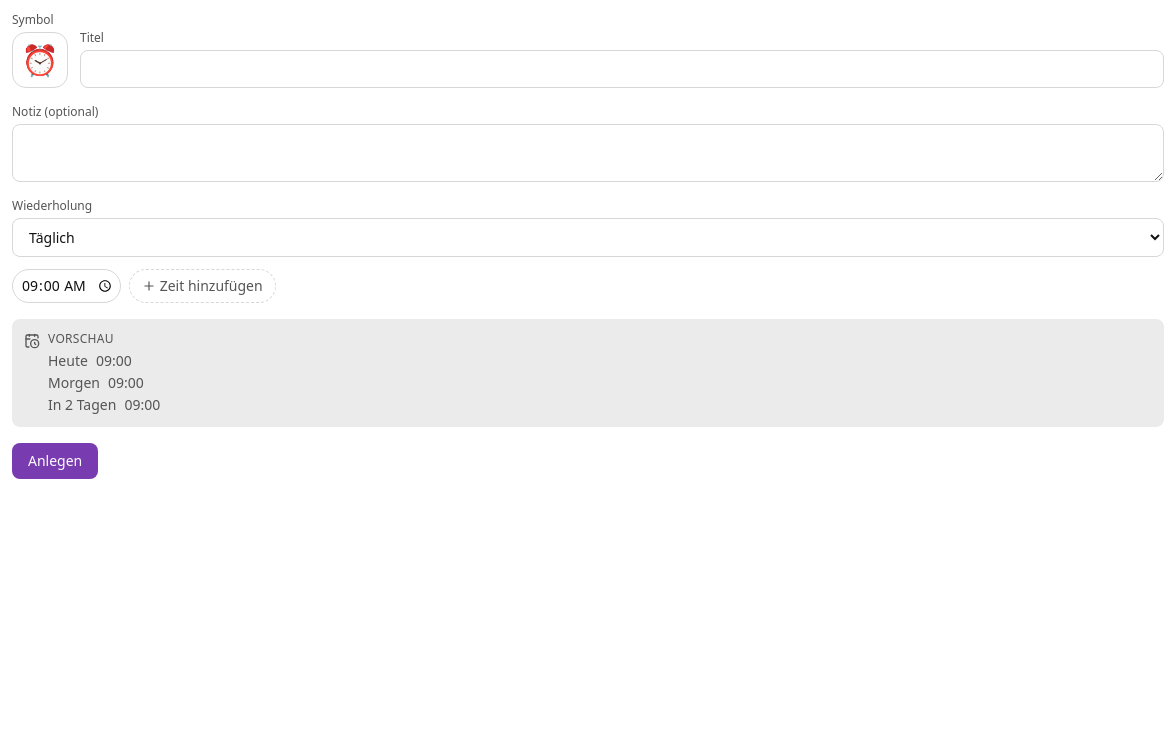
ReminderForm › survives deselecting every weekday and refuses to save it
Type "Müll" into the field labelled "Titel".
click(622, 69); type("Müll")  # box [80, 50, 1164, 88]
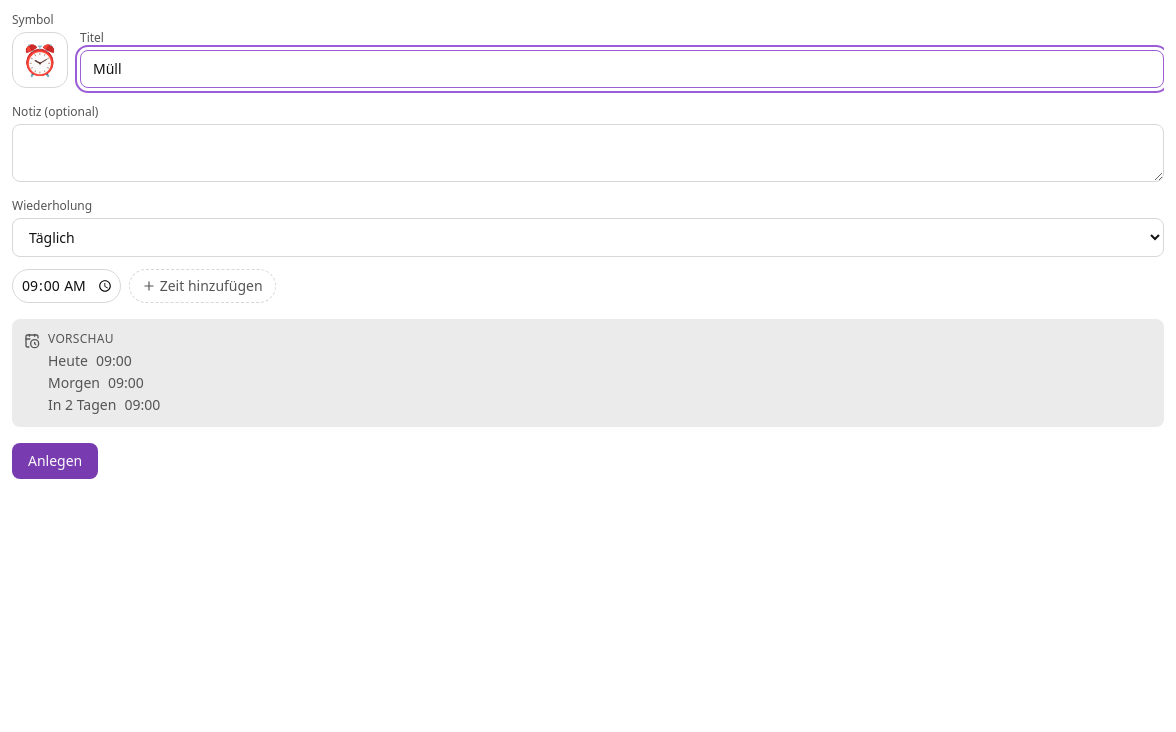
Select "Wöchentlich" in the dropdown named "Art der Wiederholung" at coordinates (588, 238), box [12, 218, 1164, 257]
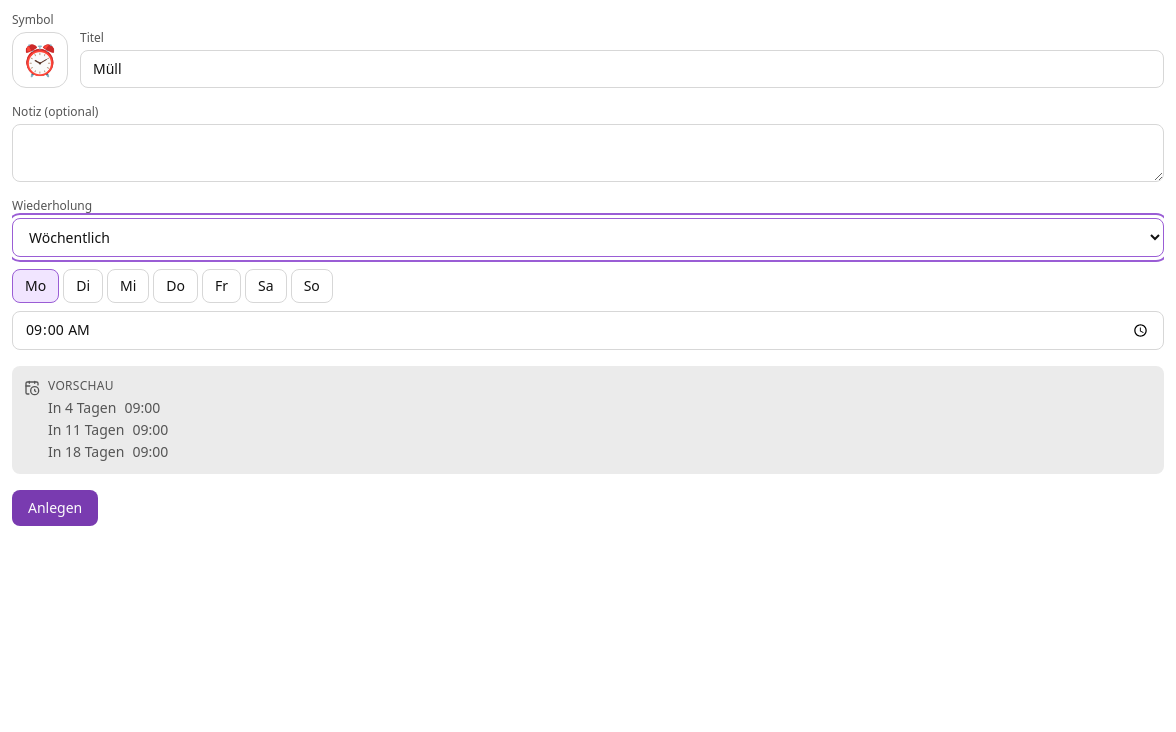
Click the button "Mo".
click(36, 286)  # box [12, 269, 59, 303]
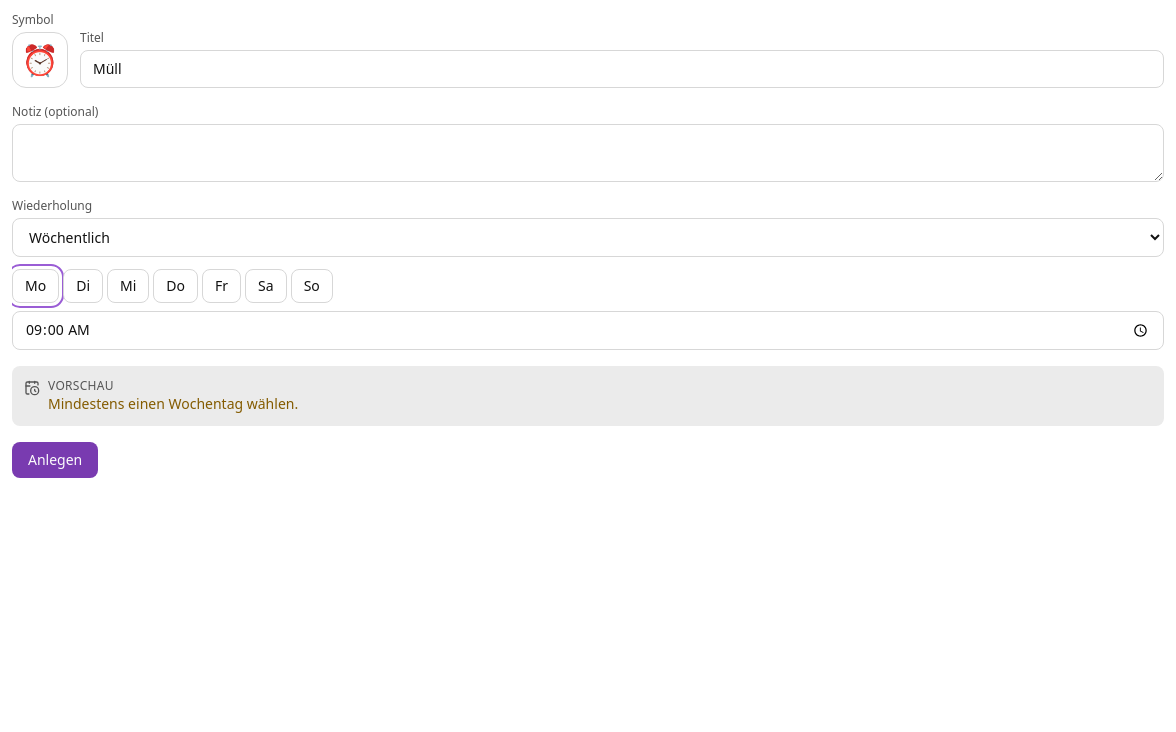
Check: the text "Mindestens einen Wochentag wählen." is shown, box [48, 394, 298, 413]
Click the button "Anlegen".
click(55, 460)  # box [12, 442, 98, 478]
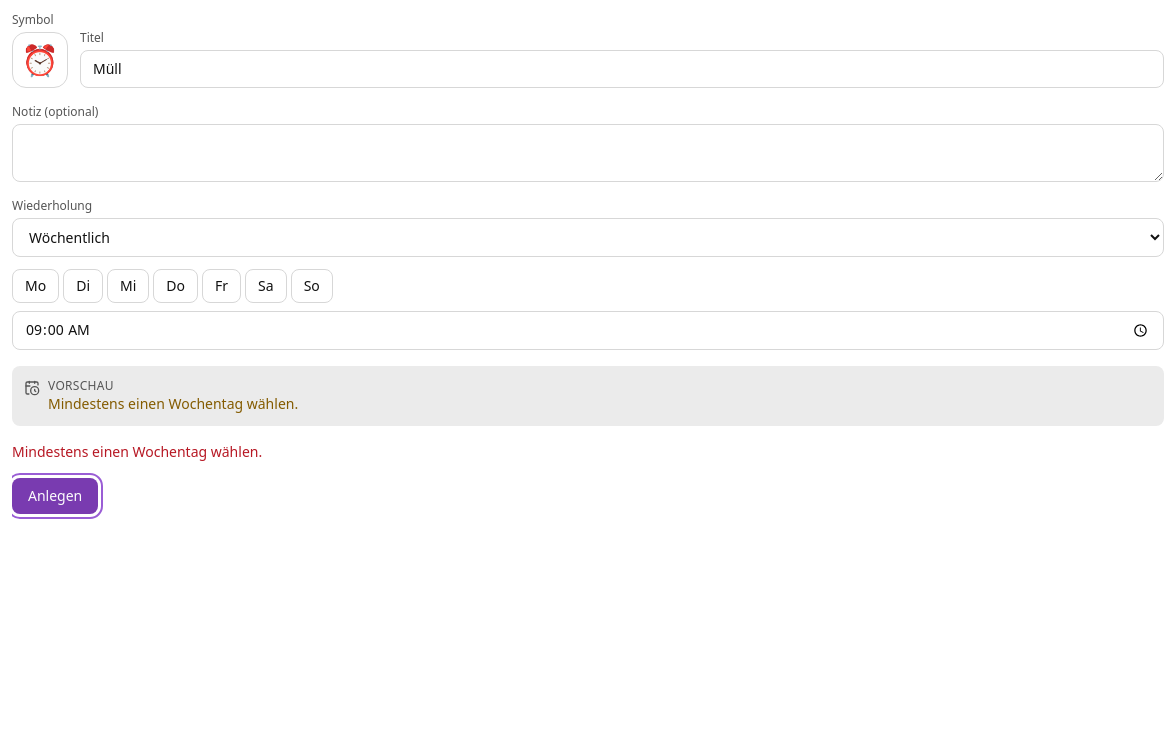
Check: the message reads "Mindestens einen Wochentag wählen.", box [12, 442, 262, 461]
